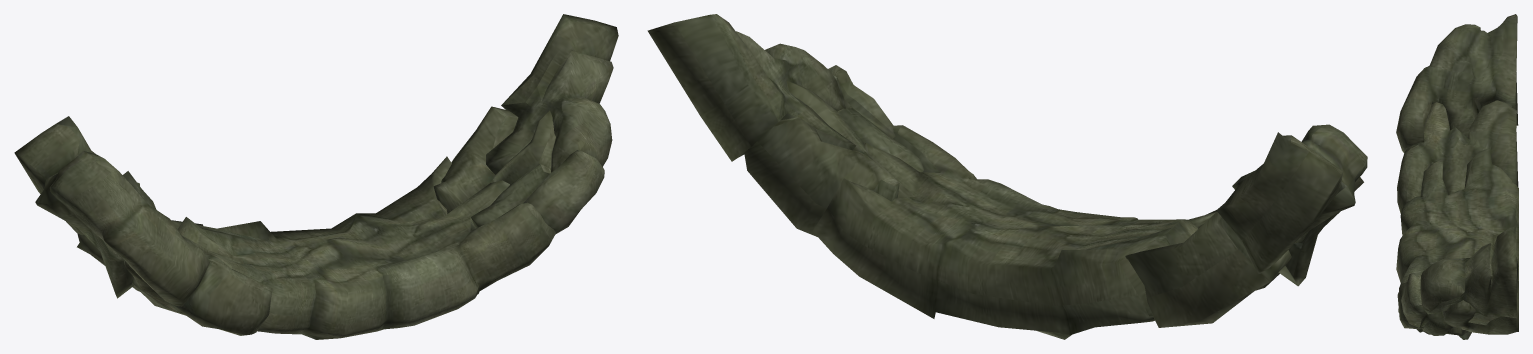
File: military_sandbag_wet_curvedsection.glb
The picture shows the model from 3 angles, left to right: view 1: azimuth 30°, elevation 25°; view 2: azimuth 150°, elevation 25°; view 3: azimuth 270°, elevation 25°; orthographic projection. The views are drawn at different scales.
Size of the model in its own units: 154 by 59 by 33.53.
Materials: 1 (1 with a texture image).
